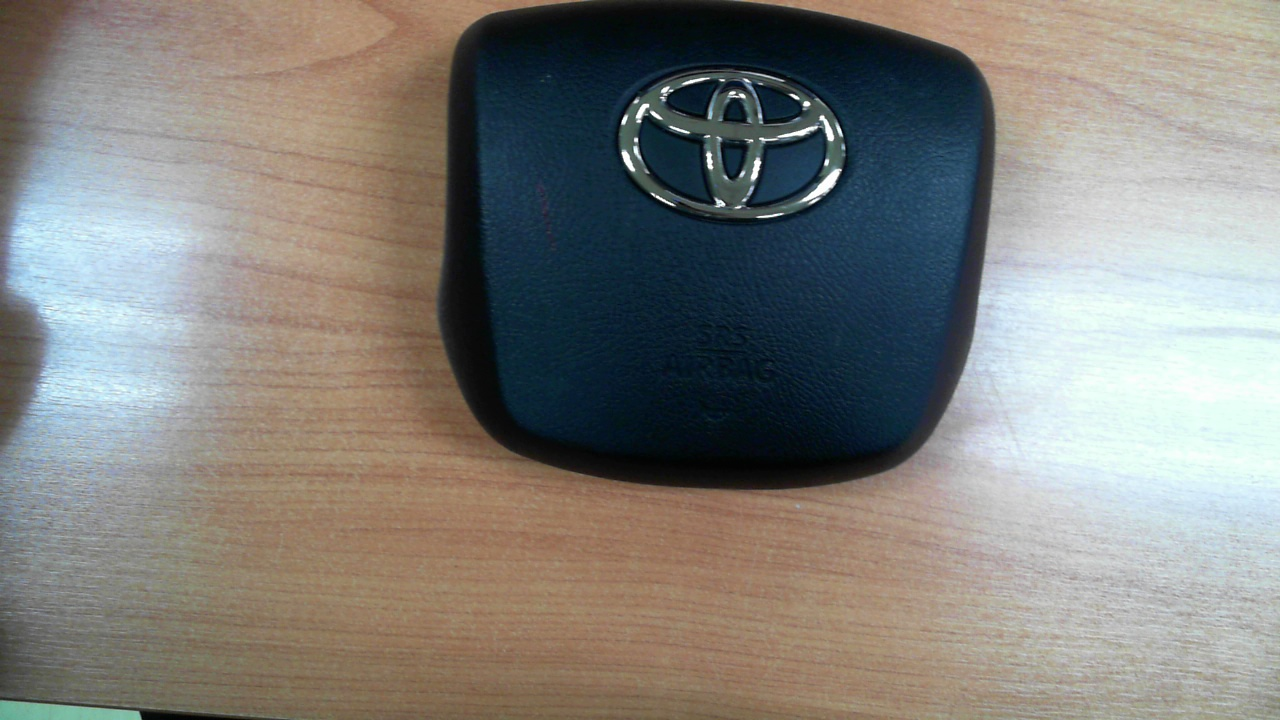Airbag: (441, 0, 998, 485)
Toyota: (618, 68, 847, 219)
